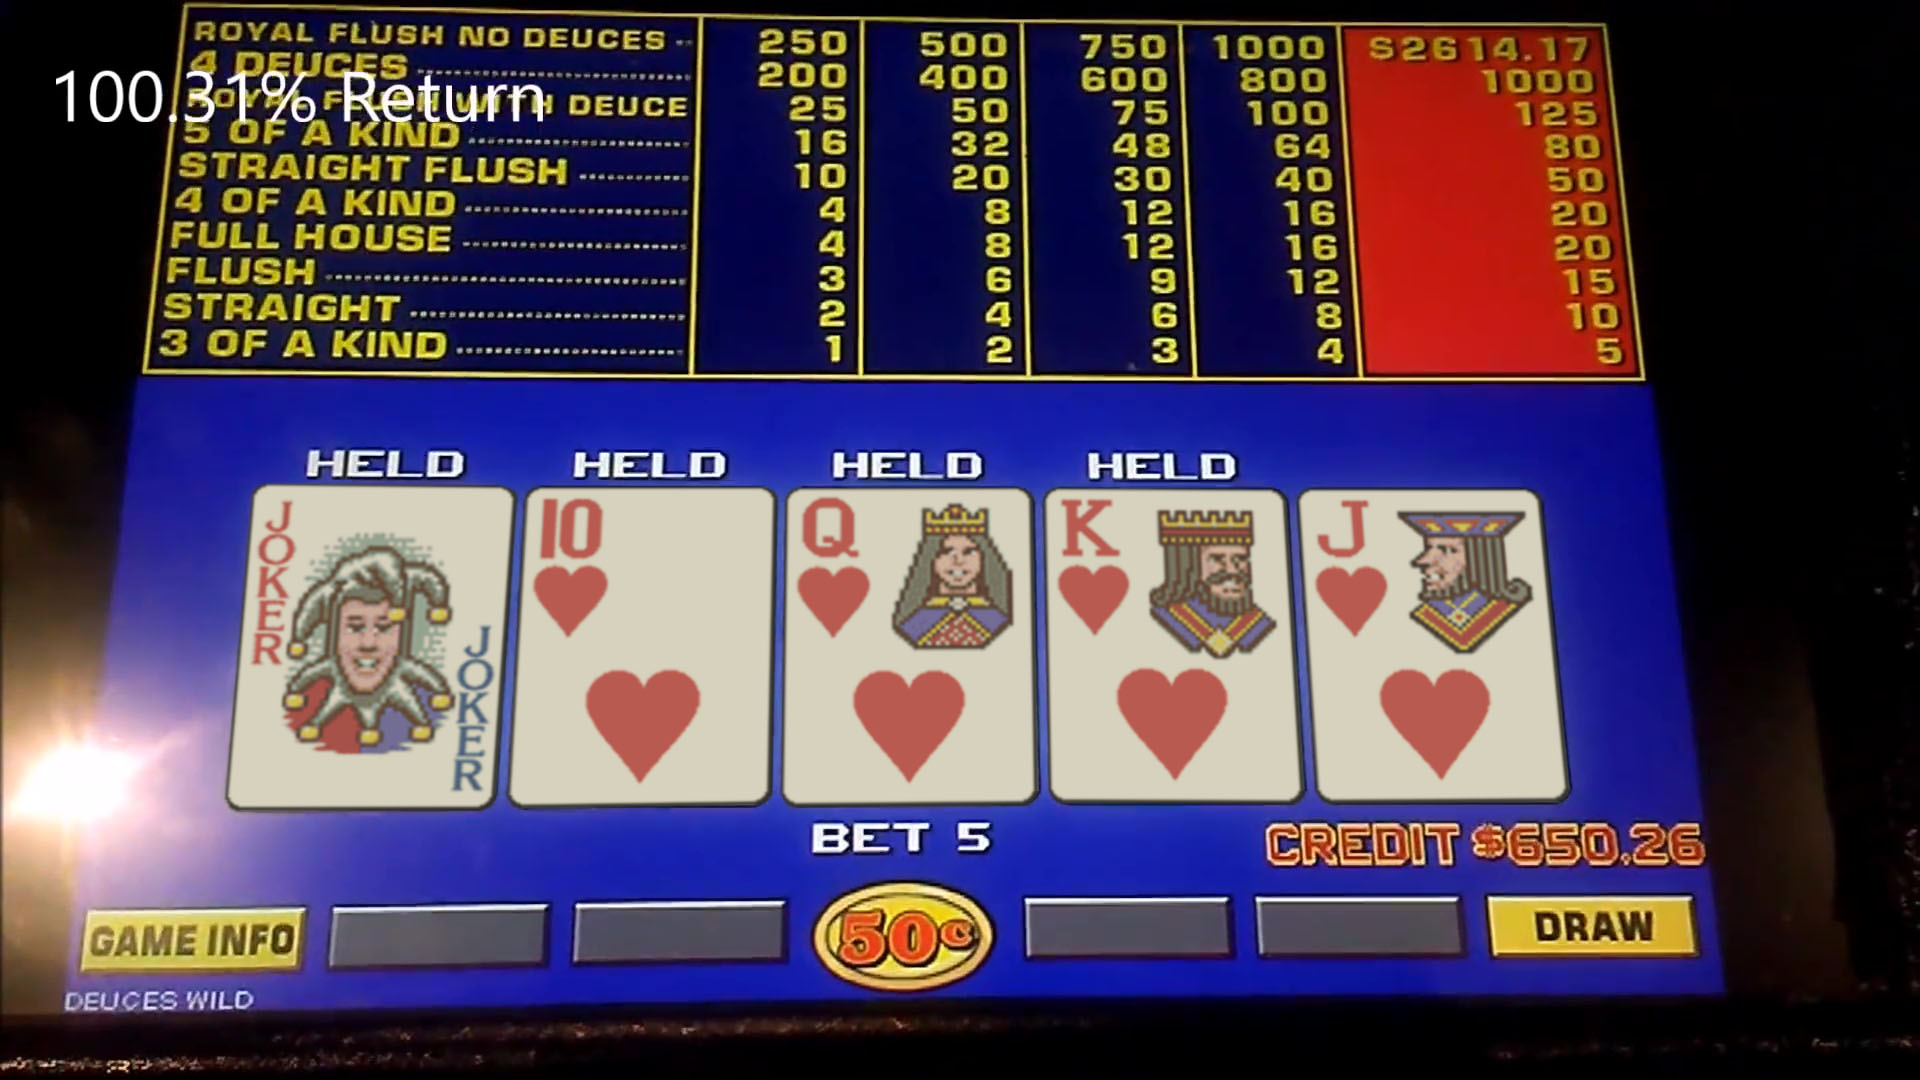HJ: (1313, 492, 1549, 802)
HK: (1048, 492, 1290, 800)
HQ: (786, 489, 1035, 803)
HT: (517, 491, 764, 802)
joker: (247, 487, 498, 808)
